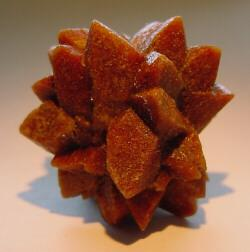calcite: (20, 16, 235, 230)
